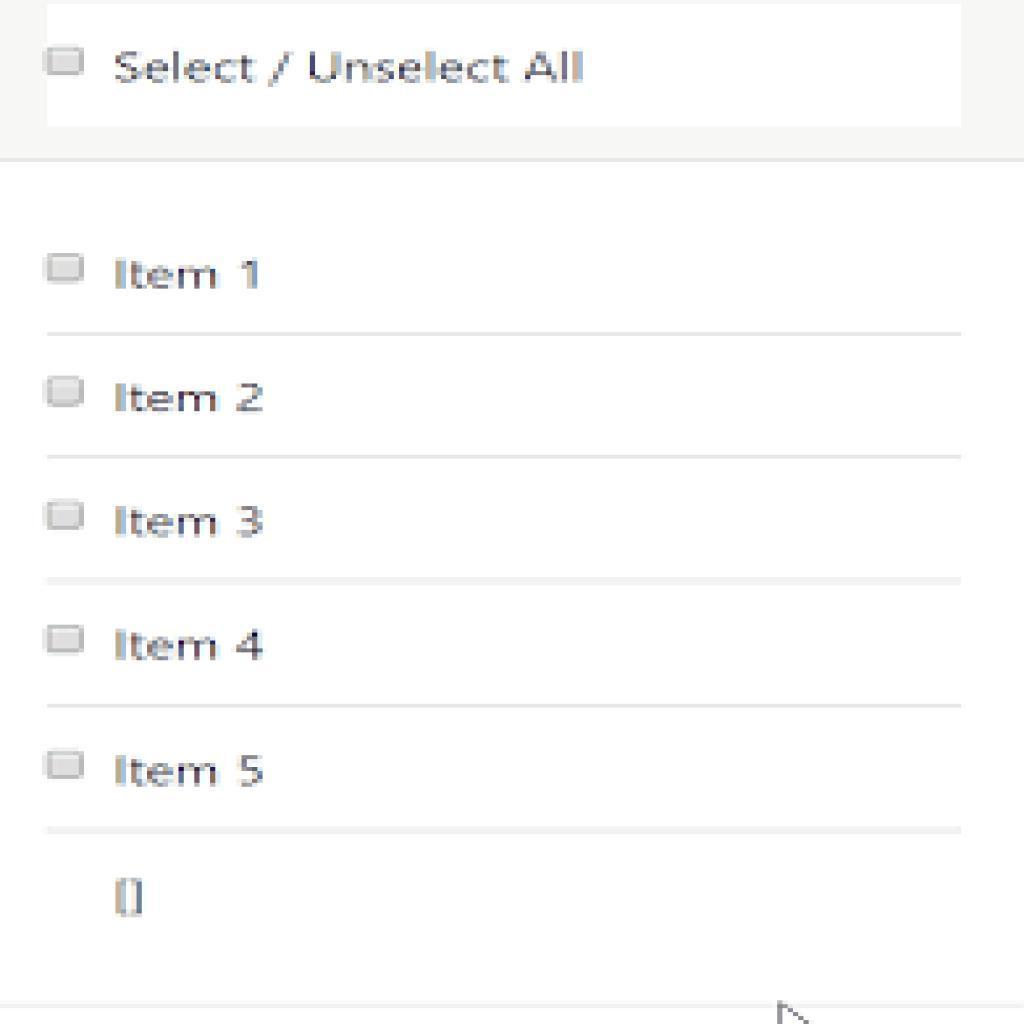checkbox: (46, 497, 86, 533), (45, 376, 84, 409), (45, 45, 83, 75), (46, 752, 84, 782), (47, 625, 84, 655), (45, 254, 83, 283)
